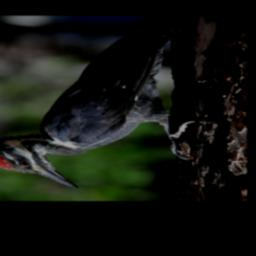Woodpecker: (0, 16, 195, 190)
